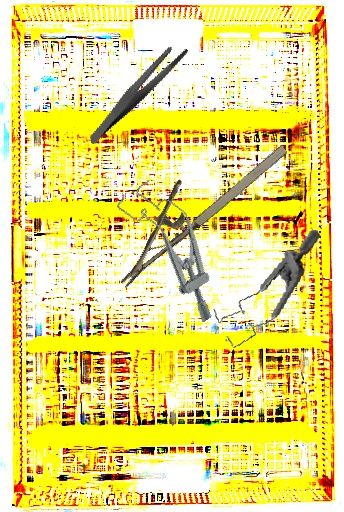Dressing Forceps: (69, 39, 205, 146)
Needle Holder: (93, 116, 292, 289)
Speculum: (112, 171, 241, 329), (207, 214, 322, 361)
